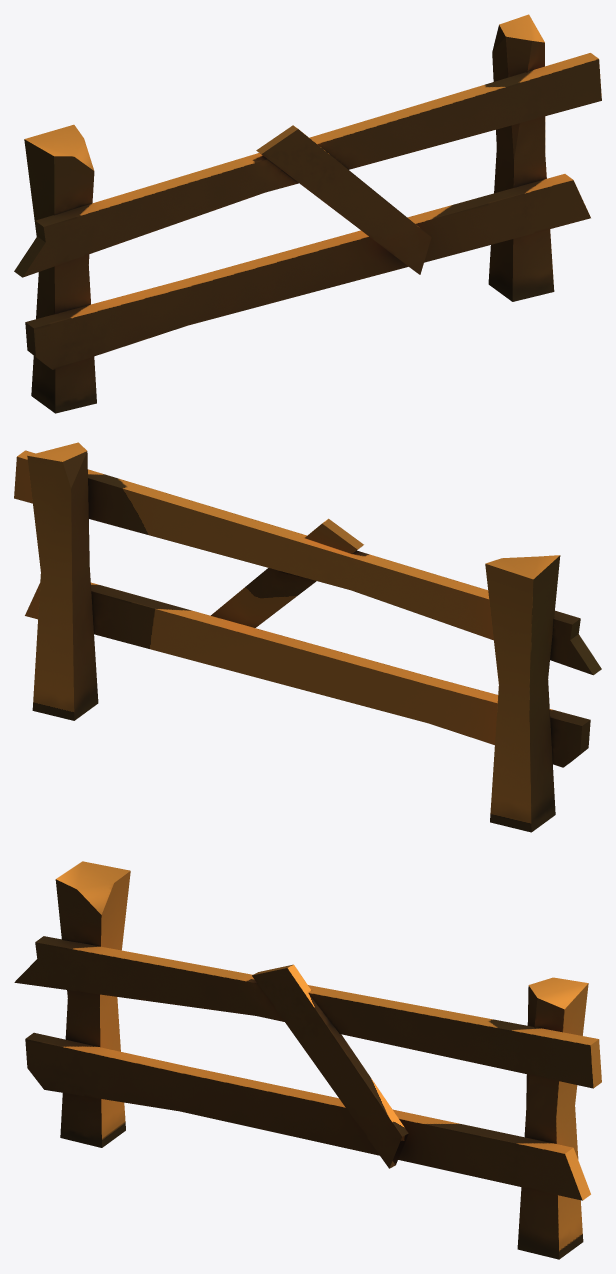
Rendered from wujian_04.fbx.
The picture shows the model from 3 angles, top to bottom: view 1: azimuth 30°, elevation 25°; view 2: azimuth 150°, elevation 25°; view 3: azimuth 330°, elevation 25°; orthographic projection.
Parts seen in each view (by area): view 1: wujian_04; view 2: wujian_04; view 3: wujian_04.
Part boxes in pixels (x1=…): wujian_04: x1=14, y1=14, x2=601, y2=413; wujian_04: x1=14, y1=442, x2=601, y2=832; wujian_04: x1=14, y1=861, x2=601, y2=1259.
Size of the model in its own units: 19.32 by 8.26 by 2.62.
Materials: 1 (1 with a texture image).
